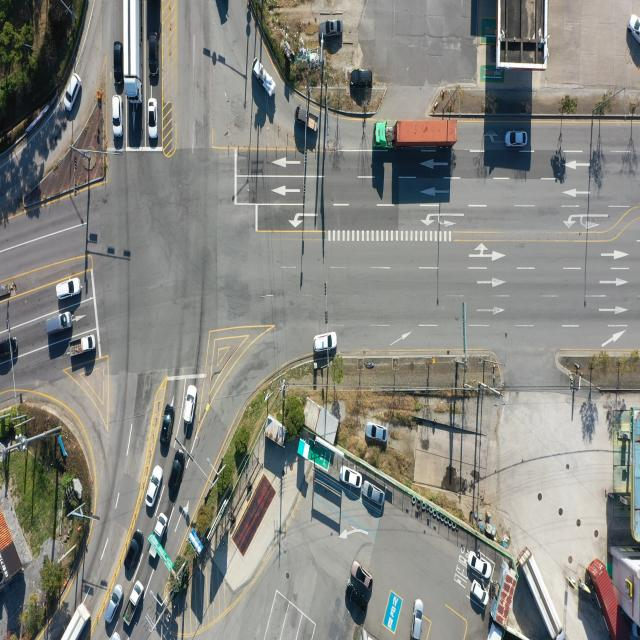car: (169, 450, 186, 502), (105, 585, 123, 624), (350, 560, 373, 590), (64, 72, 82, 110), (146, 465, 162, 507), (44, 311, 71, 335), (126, 533, 143, 571), (346, 583, 367, 613), (162, 406, 176, 450), (470, 552, 492, 579), (56, 278, 81, 301), (362, 482, 384, 507), (183, 385, 196, 425), (313, 333, 337, 354), (470, 580, 488, 608), (149, 36, 159, 86), (412, 599, 424, 640), (628, 12, 640, 51), (112, 94, 123, 135), (0, 334, 18, 359), (365, 422, 387, 442), (342, 466, 362, 488), (349, 68, 372, 87), (506, 131, 530, 148), (148, 98, 158, 138), (112, 46, 122, 86), (322, 20, 342, 37)
large_truck: (374, 118, 458, 149)
medium_truck: (522, 546, 565, 638), (126, 0, 142, 100), (51, 601, 91, 640)
small_truck: (147, 514, 169, 566), (124, 582, 146, 623), (255, 59, 278, 98), (295, 105, 319, 135), (72, 334, 97, 356)
